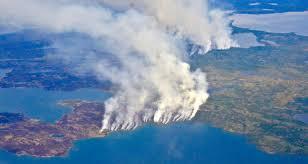smoke: (90, 13, 214, 133)
